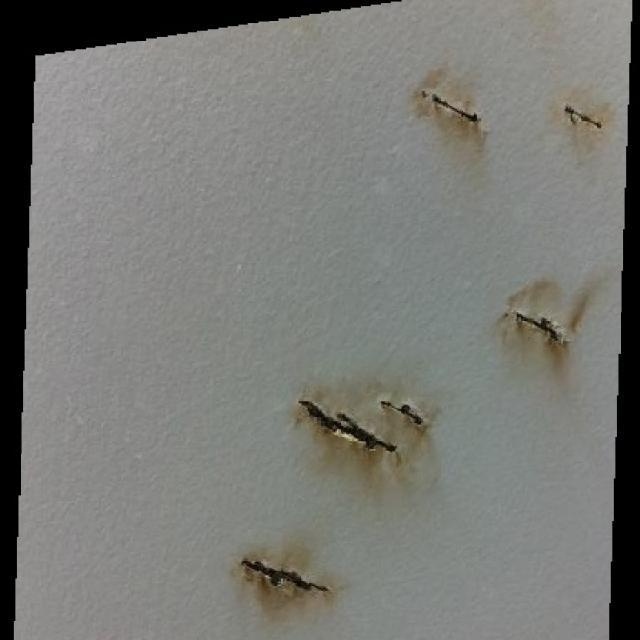crack: (312, 404, 395, 457), (515, 312, 571, 346), (427, 90, 475, 126), (257, 564, 323, 590), (566, 109, 608, 129), (389, 401, 426, 423)
